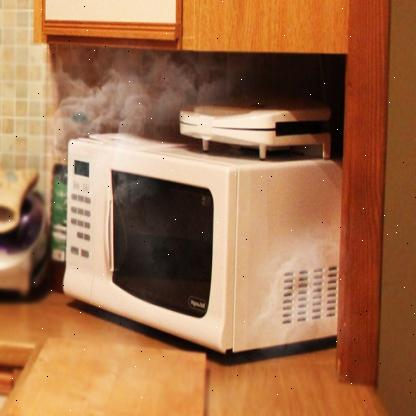smoke: (41, 49, 222, 145)
